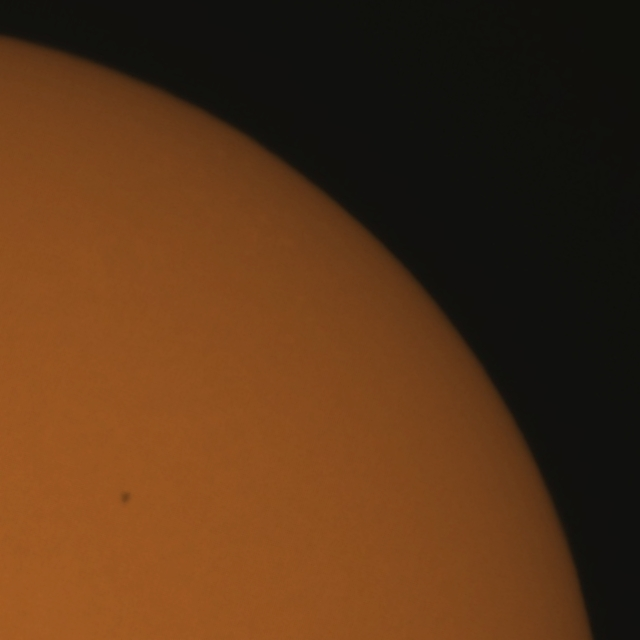sunspot: (118, 488, 134, 508)
